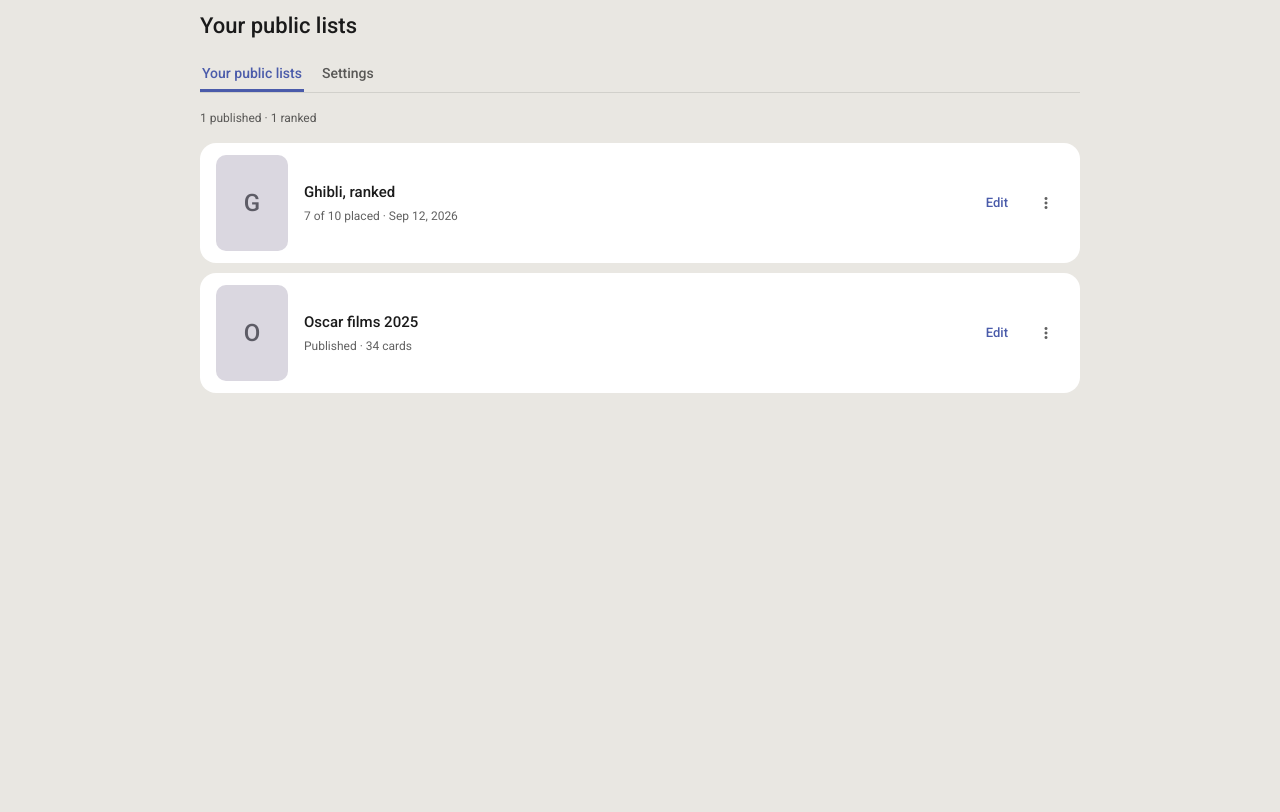
Test case: MePage › offers a ranking to be published as a list of one's own, and a list only to be unpublished
Expected: the text "1 published · 1 ranked" is shown, [200,110,316,124]
Click the heading named "More about Ghibli, ranked" at (1046, 202), box [1036,190,1056,214]
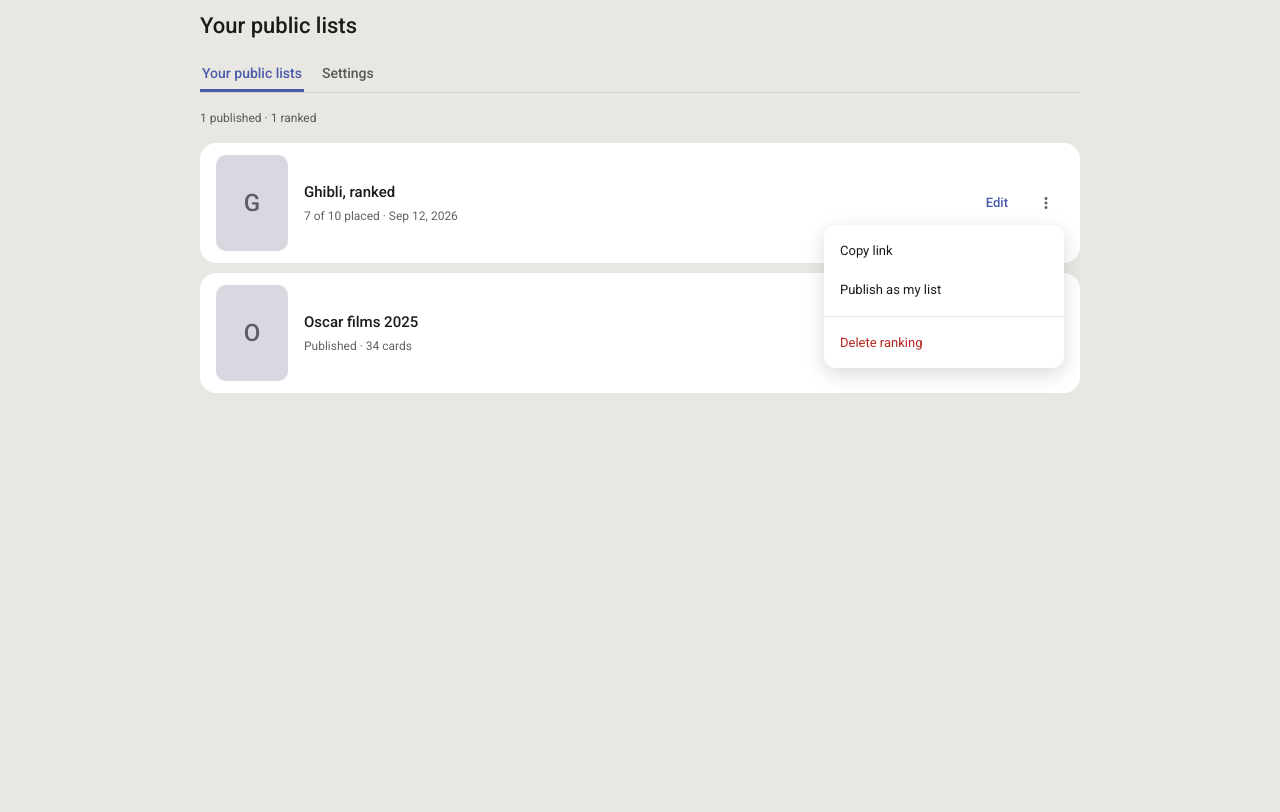
Now the button "Delete ranking" is shown, box [824,322,1064,362]
Click the button "Copy link" at (944, 250), box [824,230,1064,270]
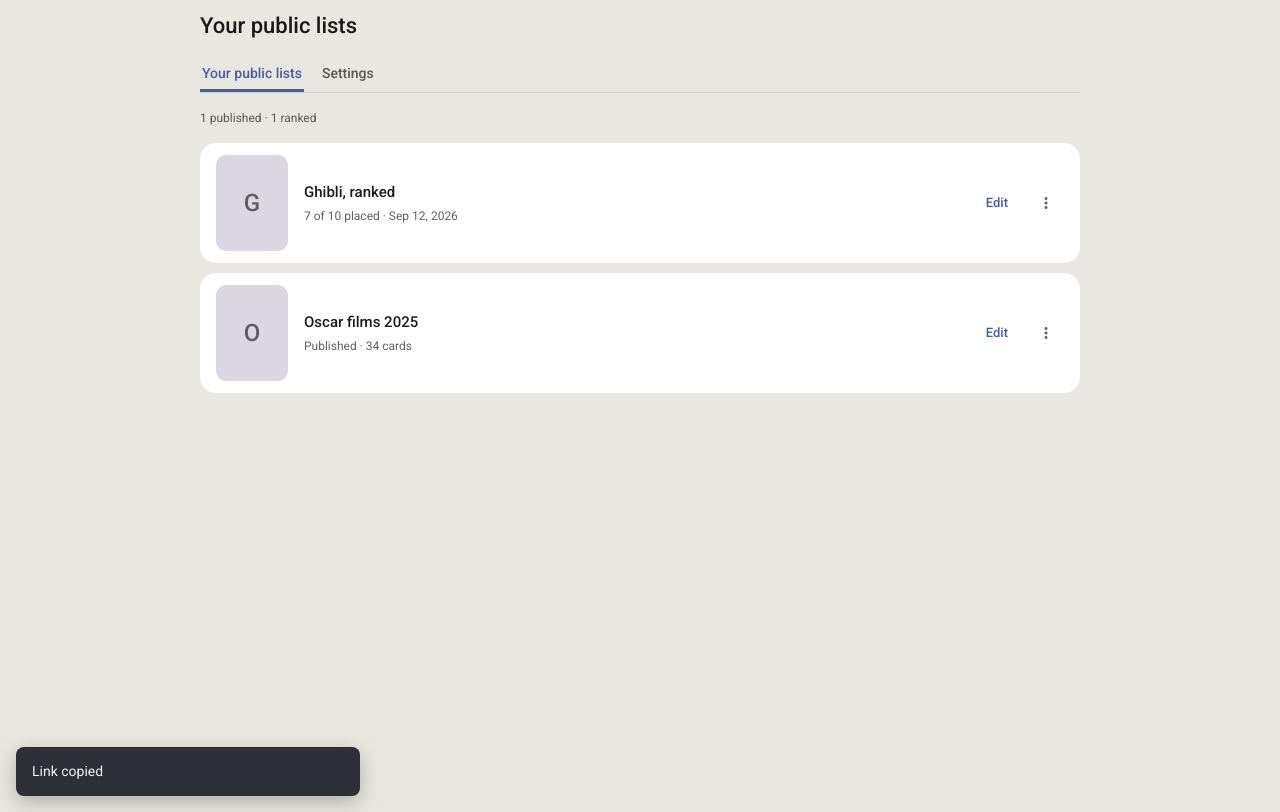
Now the message reads "Link copied", box [32,763,103,779]
Click the heading named "More about Oscar films 2025" at (1046, 332), box [1036,320,1056,344]
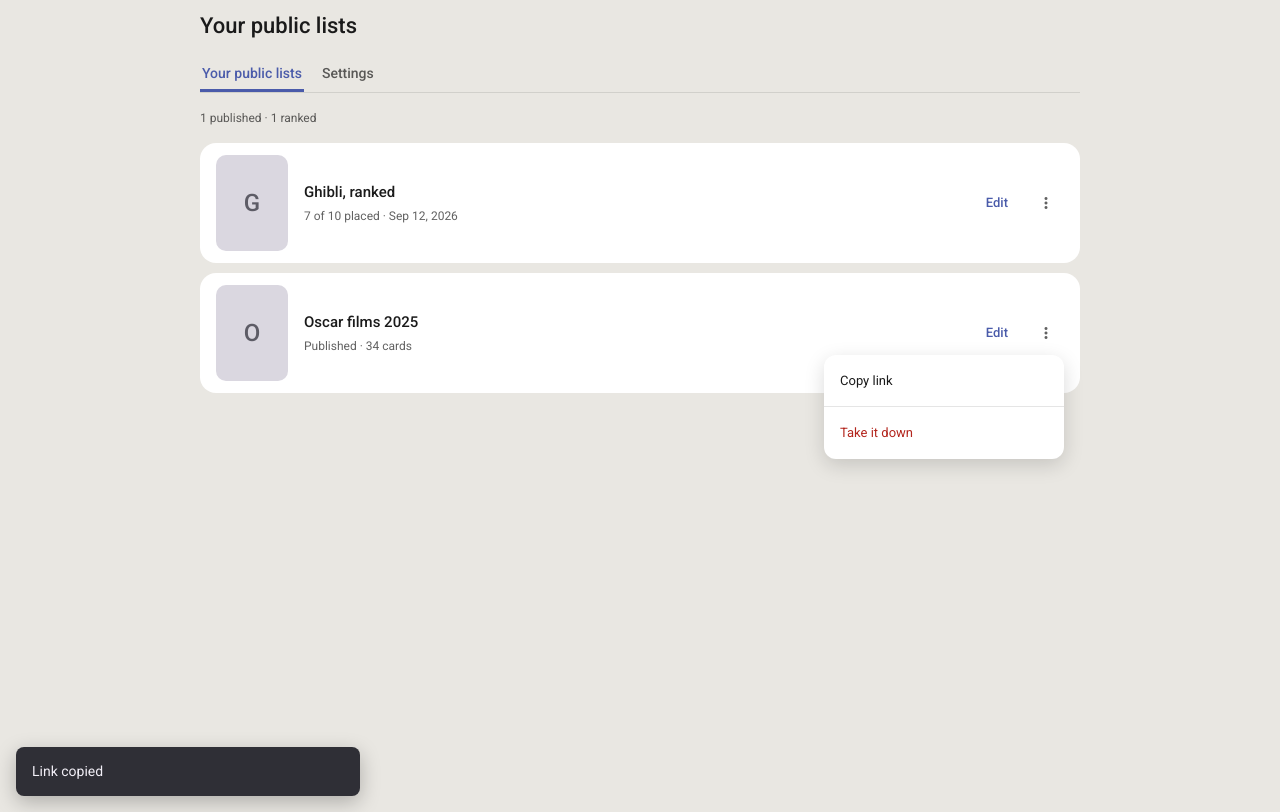
Expected: the link "Publish as my list" is not shown
Now the button "Take it down" is shown, box [824,413,1064,452]
